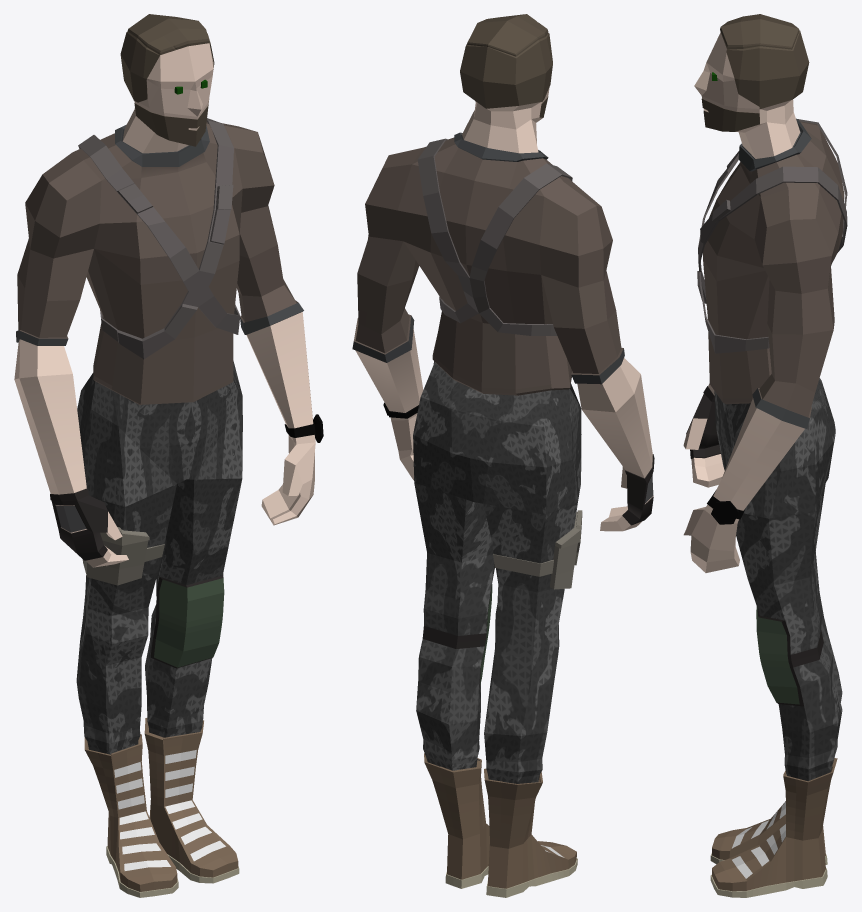
File: Kyle Crane.fbx
The picture shows the model from 3 angles, left to right: view 1: azimuth 30°, elevation 25°; view 2: azimuth 150°, elevation 25°; view 3: azimuth 270°, elevation 25°; orthographic projection.
Visible parts, largest first — view 1: Kyle Crane, Bandoiler; view 2: Kyle Crane, Bandoiler; view 3: Kyle Crane, Bandoiler.
Boxes of the visible parts, x1,y1,x2,y2 form: Kyle Crane: (14, 14, 323, 897); Bandoiler: (78, 118, 240, 359); Kyle Crane: (352, 14, 654, 897); Bandoiler: (417, 138, 572, 335); Kyle Crane: (683, 14, 844, 897); Bandoiler: (697, 119, 847, 353).
Bounding box in the file's own units: 57.25 × 167 × 29.22.
